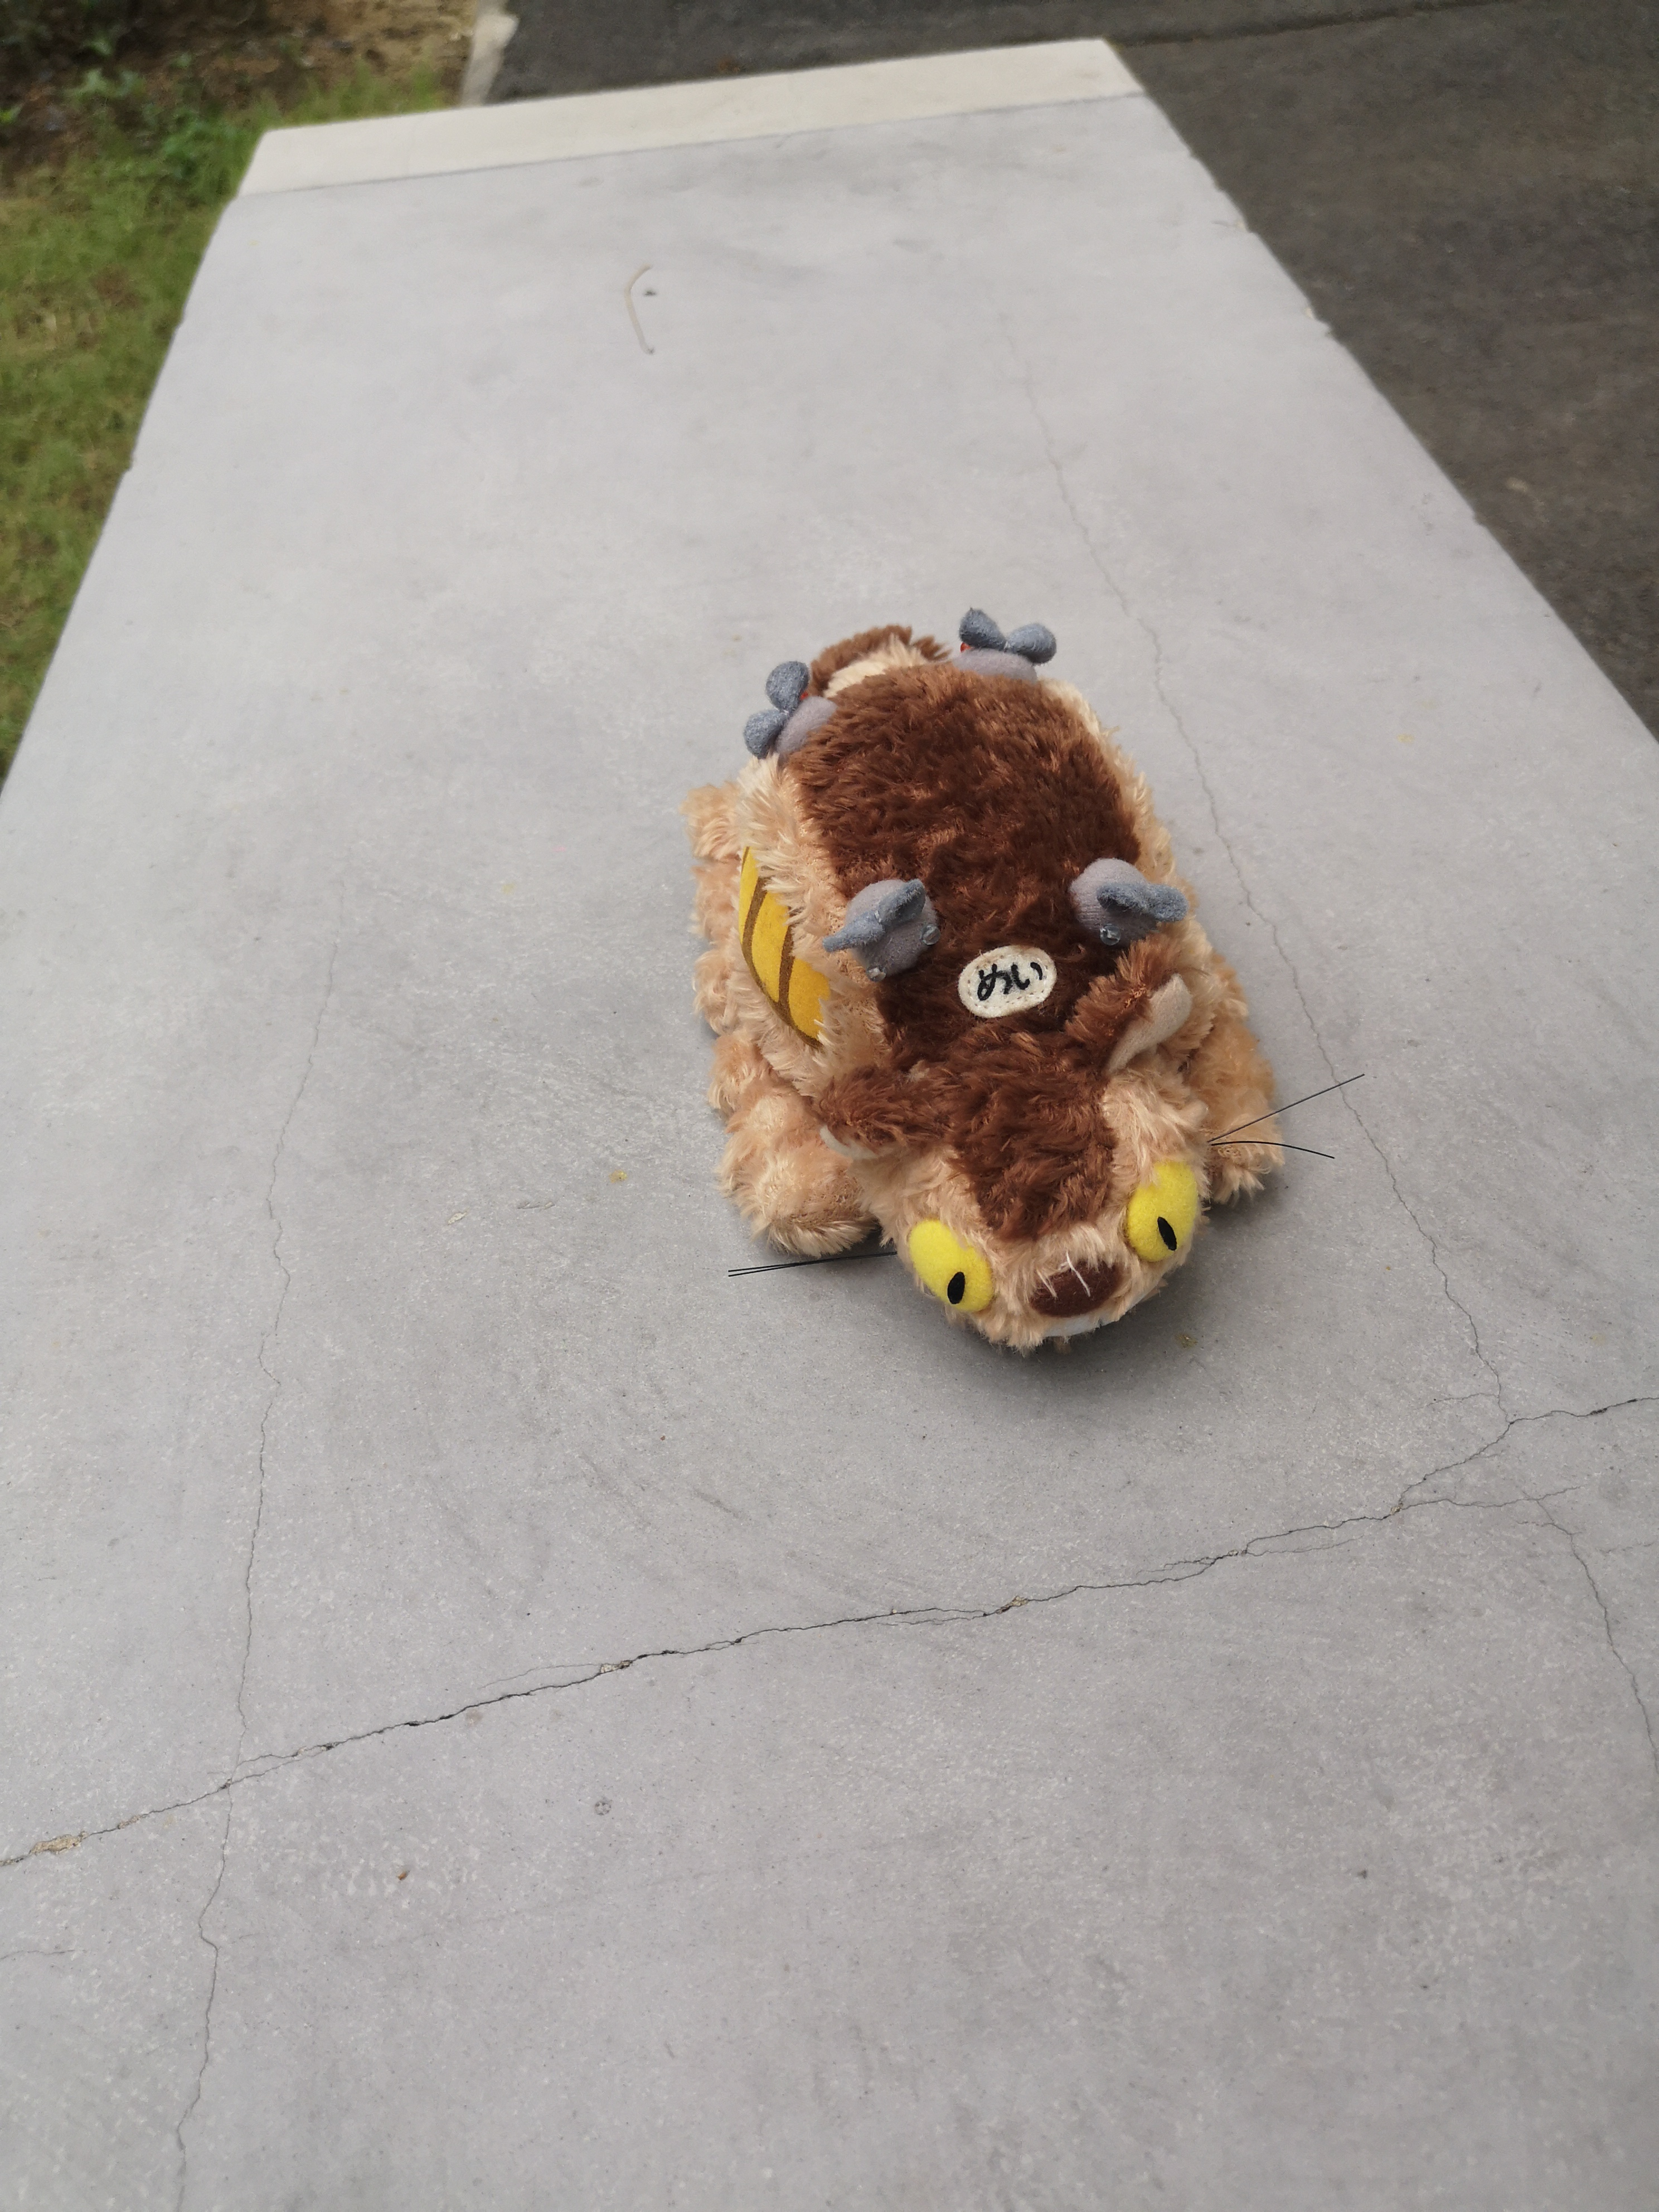nekobus: (678, 597, 1359, 1372)
